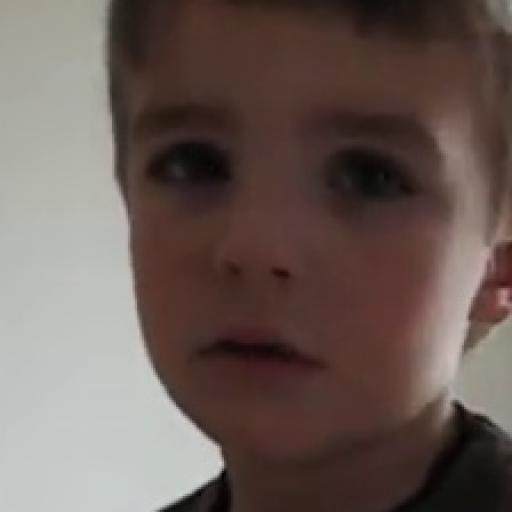Autism: (74, 2, 496, 512)
